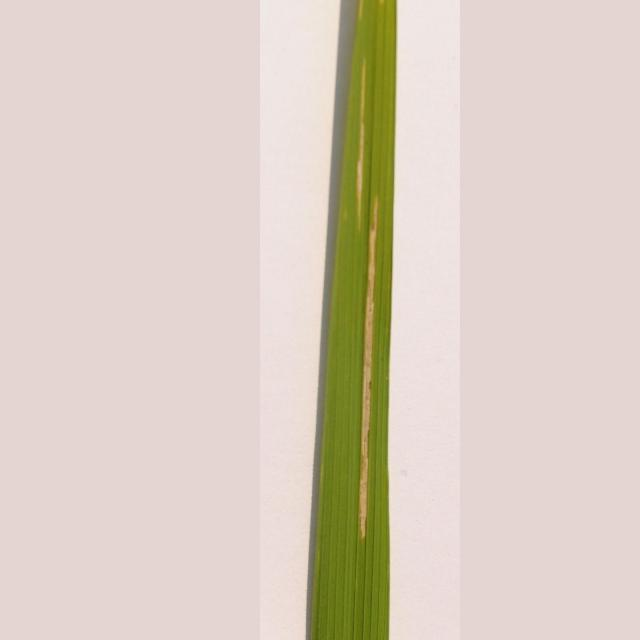leaf blight: (335, 51, 388, 541)
